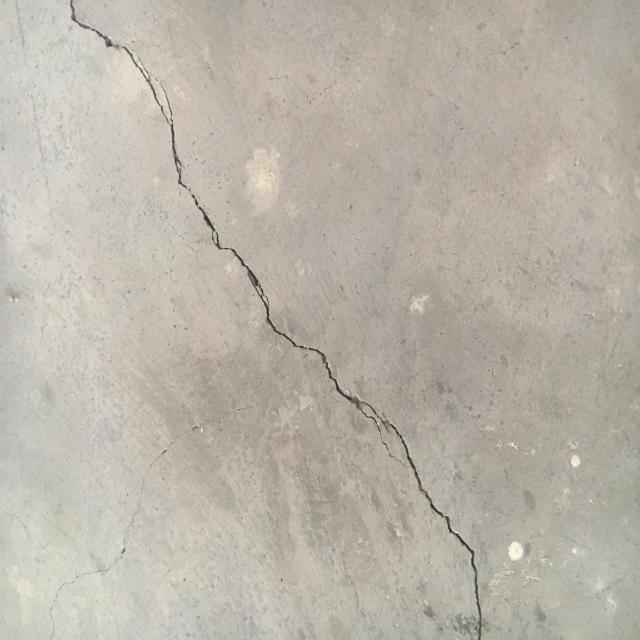Rachadura: (66, 0, 486, 640)
